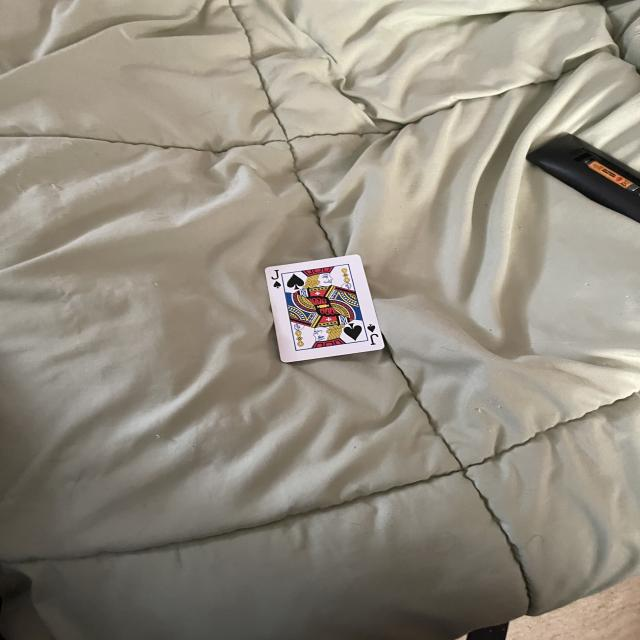Jack of spades: (265, 255, 387, 363)
